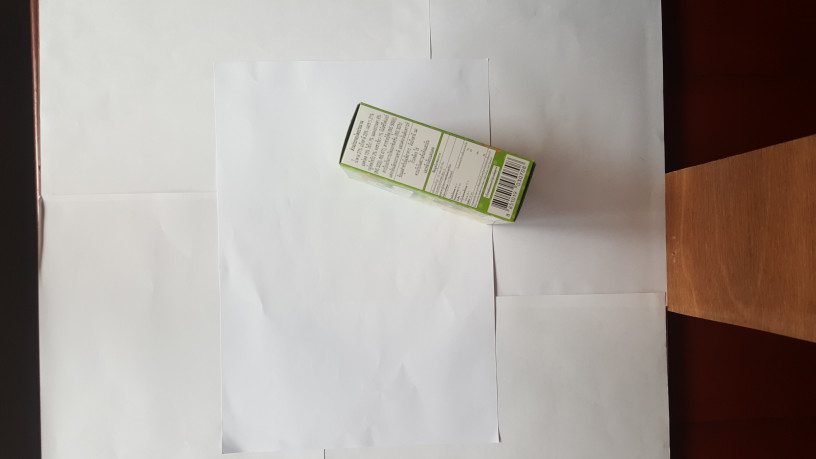collon-matcha: (338, 101, 536, 222)
